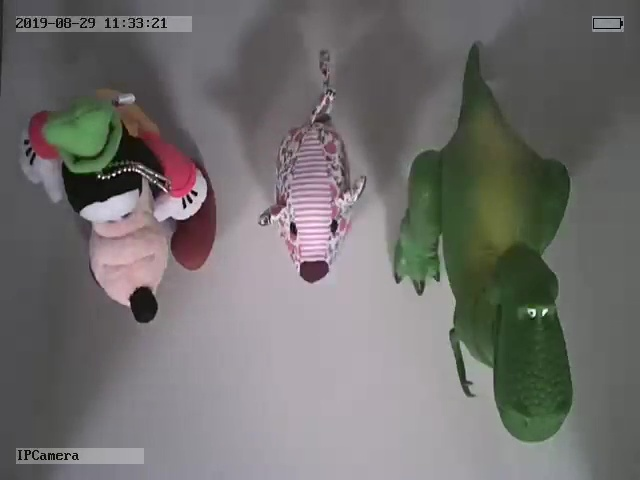goofy: (19, 82, 217, 326)
pig: (257, 50, 365, 283)
rex: (394, 41, 575, 443)
